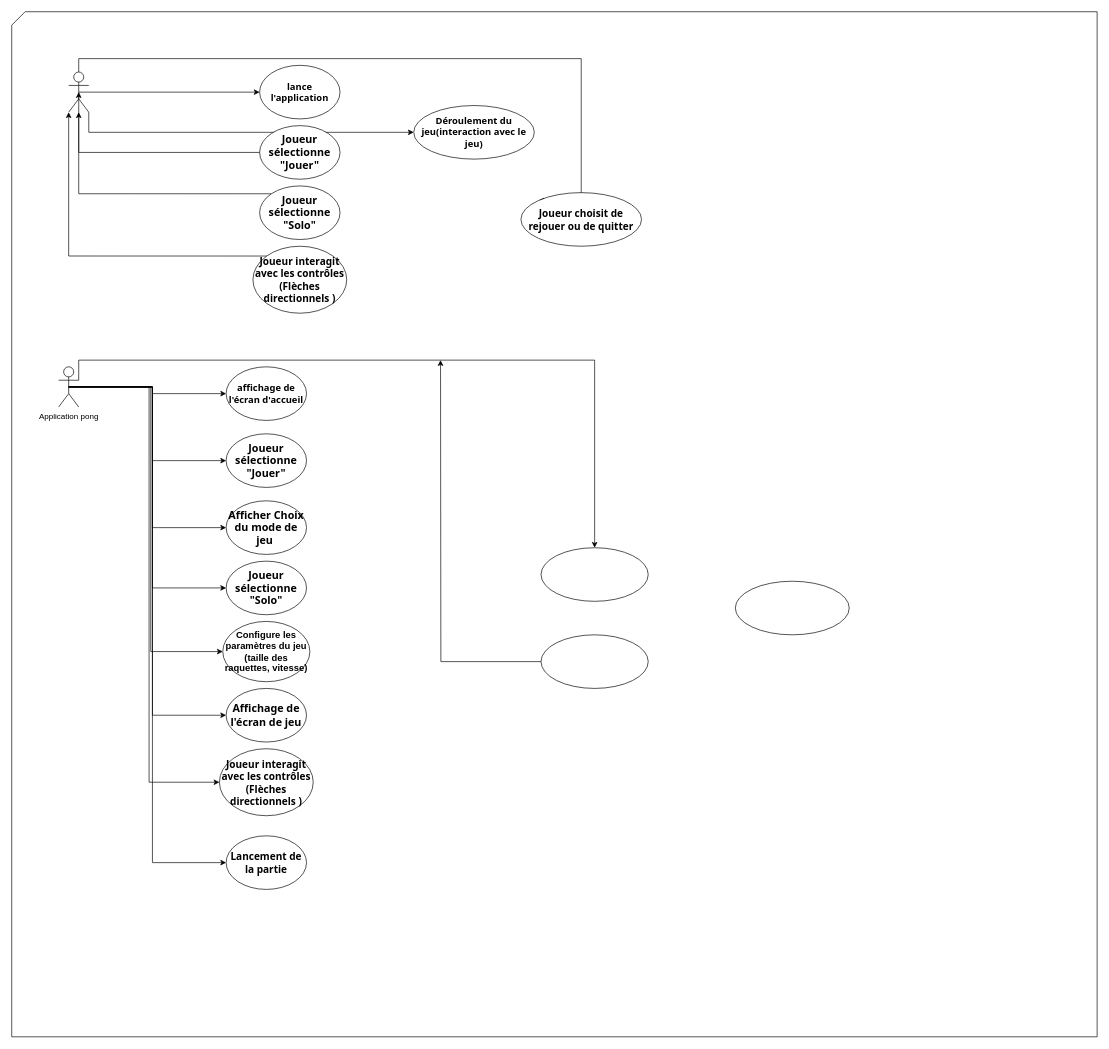
Some shapes in this 1109 by 1049 pixel diagram are drawn without their labels. The shapes that lost their labels are listed below. From the top down, each one's box as (x1, y1, x2, y2) in pixels, then its label:
(68, 71, 89, 112): Joueur
(540, 547, 648, 601): Fin de la partie
(735, 581, 849, 635): Fermeture de l'application
(540, 634, 648, 688): Affichage de l'écran de fin de jeu
